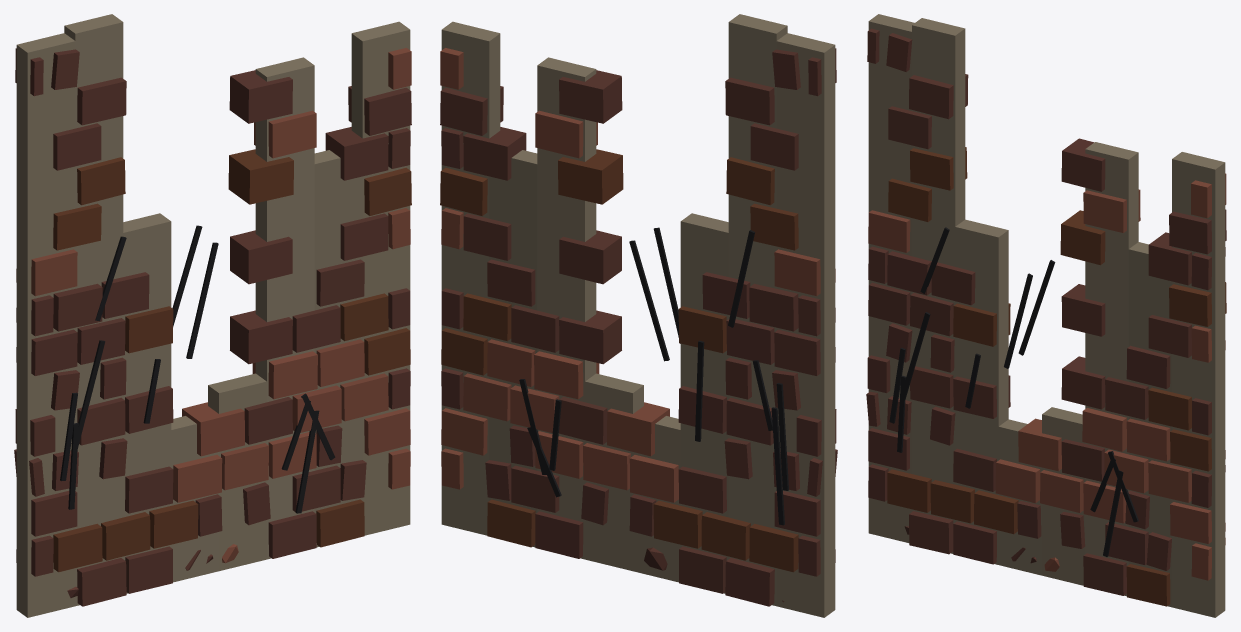
File: piece_wall_brick_critical.fbx
3 views of the same model, side by side, from view 1: azimuth 30°, elevation 25°; view 2: azimuth 150°, elevation 25°; view 3: azimuth 330°, elevation 25° (orthographic). The views are drawn at different scales.
Visible parts, largest first — view 1: piece_wall_brick_critical; view 2: piece_wall_brick_critical; view 3: piece_wall_brick_critical.
Boxes of the visible parts, x1,y1,x2,y2 form: piece_wall_brick_critical: (14, 14, 411, 617); piece_wall_brick_critical: (440, 14, 837, 617); piece_wall_brick_critical: (866, 14, 1226, 617).
Size of the model in its own units: 2 by 2.86 by 0.196.
